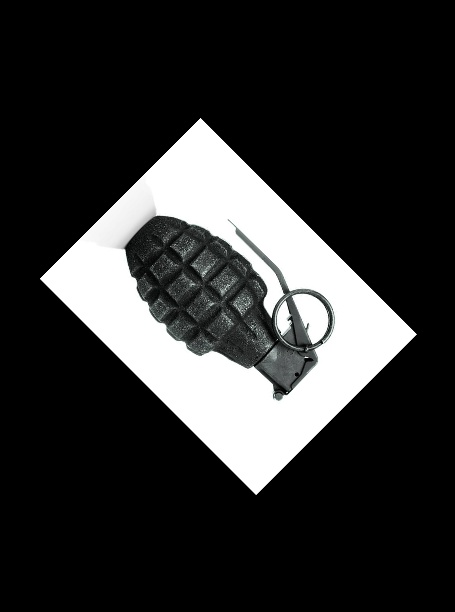e1: (122, 208, 333, 402)
